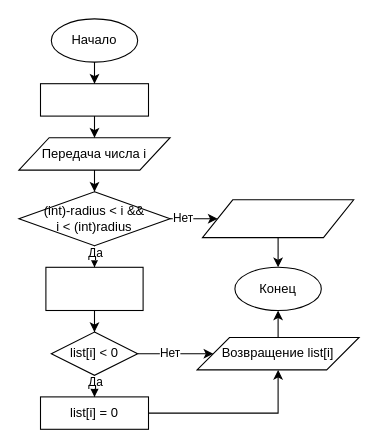
This 378x448 diagram has some shape labels left out. The centre of each missing label's shape, as x and y in pixels:
"i += radius" belongs at point 94,288.
"Возвращение v" belongs at point 277,218.
"Целое число i" belongs at point 93,99.
